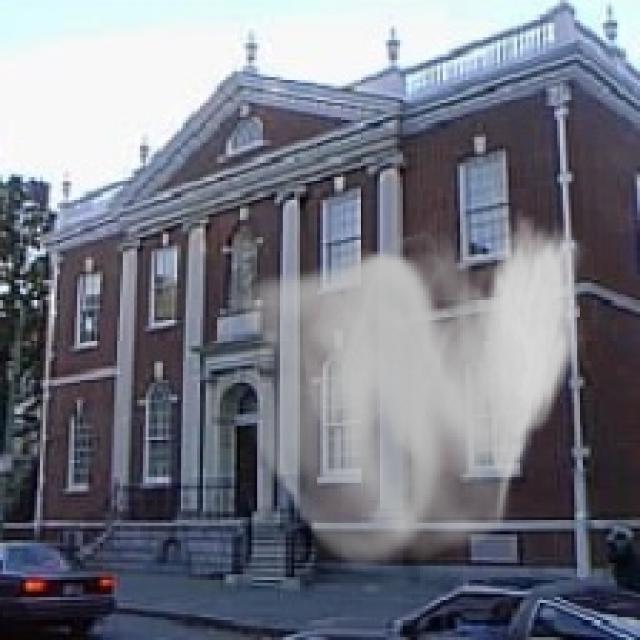smoke: (243, 209, 586, 577)
